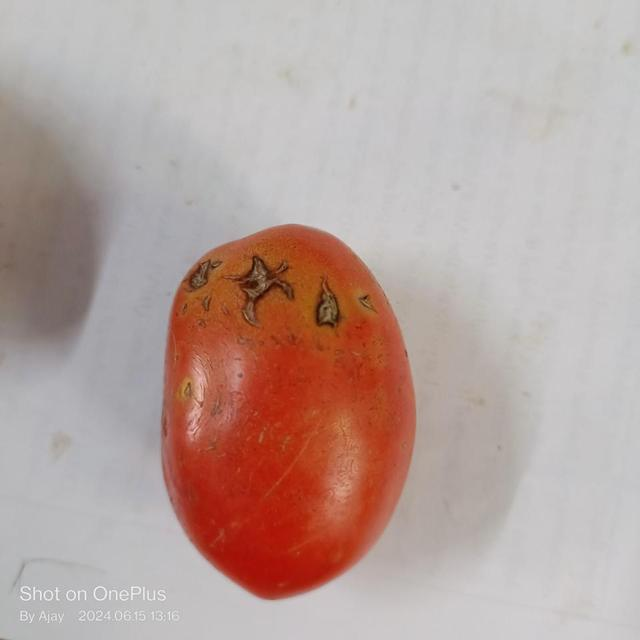Bacterial Spot Fruit: (12, 15, 242, 201)
